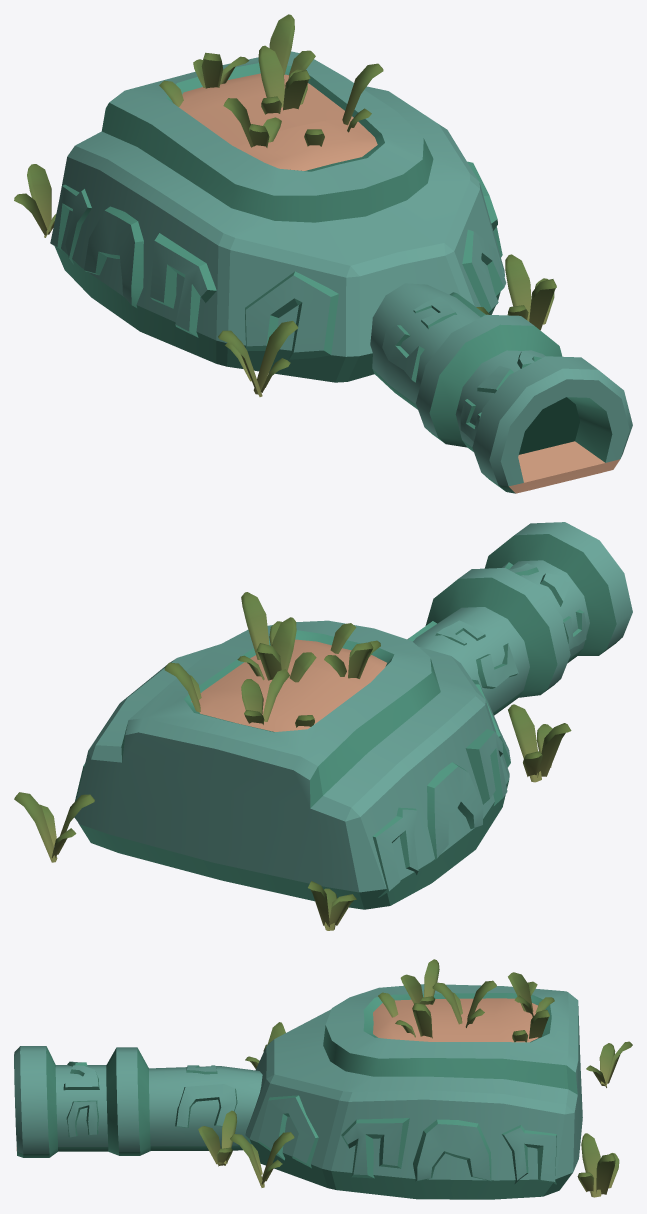
The model's file is BO_TankRuin_2x1x4.fbx.
3 views of the same model, one above another, from view 1: azimuth 30°, elevation 25°; view 2: azimuth 150°, elevation 25°; view 3: azimuth 270°, elevation 25° (orthographic). The views are drawn at different scales.
Parts seen in each view (by area): view 1: BO_TankRuin_DM_01; view 2: BO_TankRuin_DM_01; view 3: BO_TankRuin_DM_01.
Part boxes in pixels (x1,y1,x2,y2): BO_TankRuin_DM_01: (14, 14, 632, 493); BO_TankRuin_DM_01: (14, 522, 632, 930); BO_TankRuin_DM_01: (14, 959, 632, 1199).
Bounding box in the file's own units: 213 × 118 × 408.
